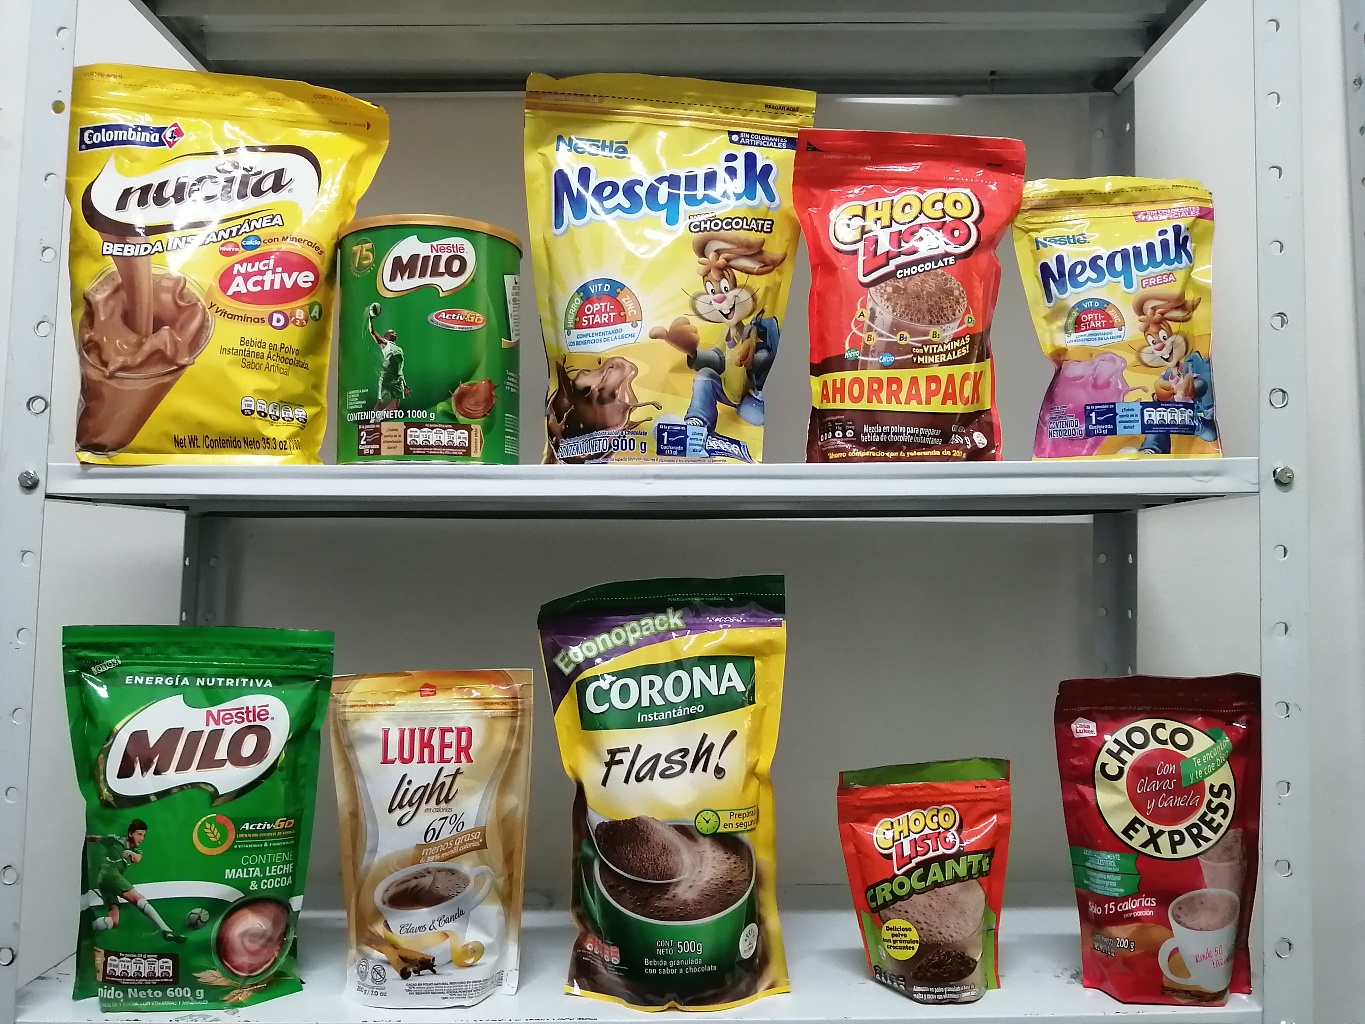COL0170102DYP10000: (835, 734, 1032, 1013)
COL0170103DYP40000: (787, 111, 1030, 460)
COL0170305DYP20000: (992, 150, 1250, 456)
